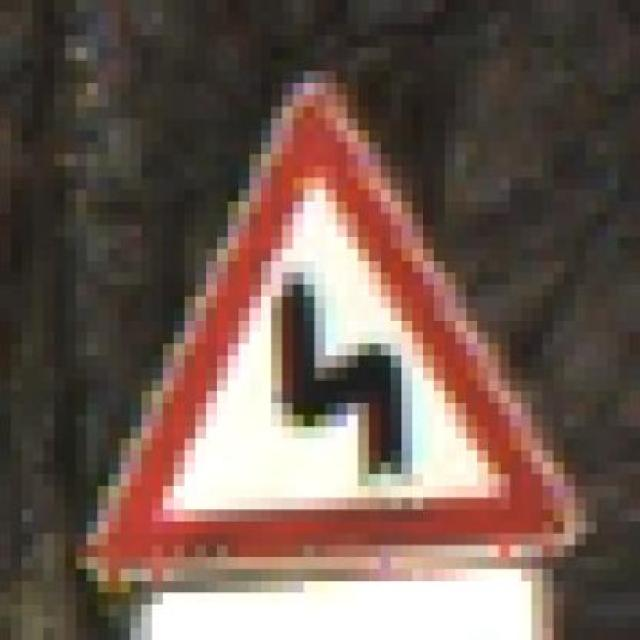Left Zig Zag Traffic: (65, 59, 597, 581)
